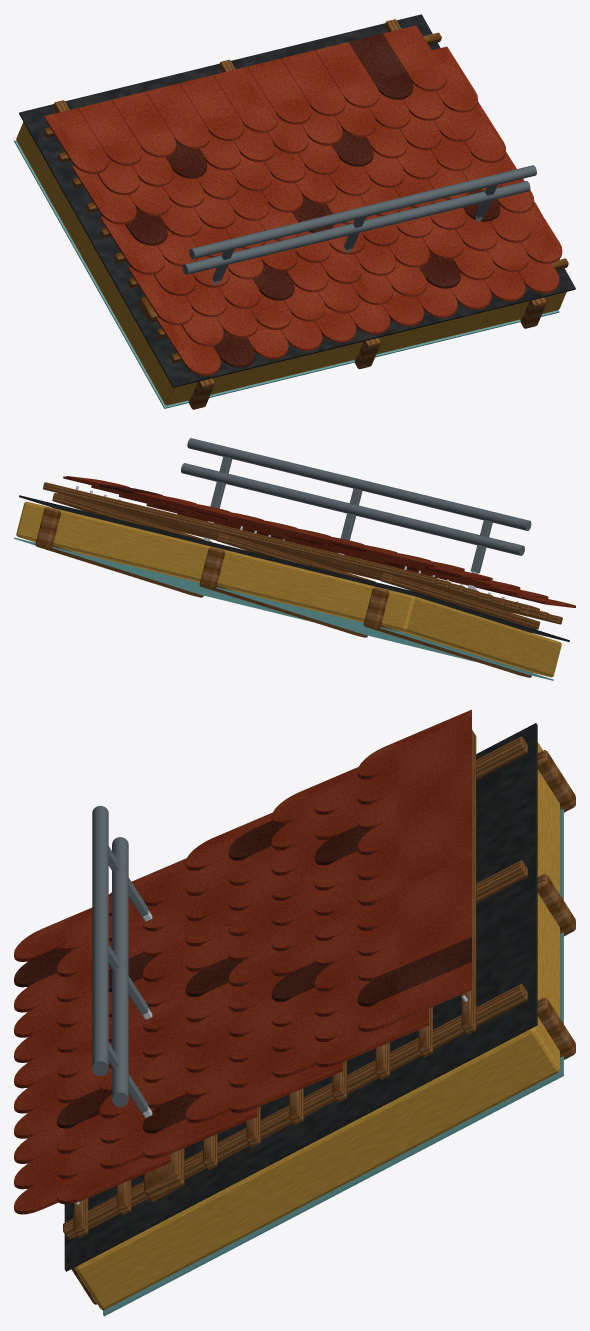
The model's file is modell.glb.
3 views of the same model, one above another, from view 1: azimuth 30°, elevation 25°; view 2: azimuth 150°, elevation 25°; view 3: azimuth 270°, elevation 25° (orthographic). The views are drawn at different scales.
Visible parts, largest first — view 1: a02-deckziegel_deckung, a02-zusatzebene_zusatzebene, a02-daemmung_daemmung, a02-deckziegel_deckung.001, a02-fangsystem_, a02-luftdichtheit_luftdichtheit, a02-lattung_lattung, a02-sparren_tragwerk, a02-halter_; view 2: a02-daemmung_daemmung, a02-lattung_lattung, a02-fangsystem_, a02-deckziegel_deckung, a02-sparren_tragwerk, a02-luftdichtheit_luftdichtheit, a02-zusatzebene_zusatzebene, a02-halter_, a02-befestigungsuntergrund_lattung, a02-deckziegel_deckung.001; view 3: a02-deckziegel_deckung, a02-daemmung_daemmung, a02-zusatzebene_zusatzebene, a02-lattung_lattung, a02-deckziegel_deckung.001, a02-fangsystem_, a02-luftdichtheit_luftdichtheit, a02-sparren_tragwerk, a02-halter_, a02-befestigungsuntergrund_lattung.
Part boxes in pixels (left/top/right/bottom): a02-deckziegel_deckung: left=44, top=25, right=562, bottom=375; a02-zusatzebene_zusatzebene: left=19, top=14, right=575, bottom=387; a02-daemmung_daemmung: left=16, top=122, right=566, bottom=405; a02-deckziegel_deckung.001: left=125, top=34, right=500, bottom=367; a02-fangsystem_: left=182, top=165, right=536, bottom=274; a02-luftdichtheit_luftdichtheit: left=14, top=140, right=559, bottom=408; a02-lattung_lattung: left=43, top=19, right=568, bottom=363; a02-sparren_tragwerk: left=188, top=297, right=546, bottom=409; a02-halter_: left=212, top=185, right=497, bottom=281; a02-daemmung_daemmung: left=16, top=501, right=561, bottom=677; a02-lattung_lattung: left=43, top=482, right=562, bottom=629; a02-fangsystem_: left=181, top=438, right=531, bottom=555; a02-deckziegel_deckung: left=63, top=476, right=575, bottom=607; a02-sparren_tragwerk: left=35, top=507, right=531, bottom=677; a02-luftdichtheit_luftdichtheit: left=14, top=537, right=553, bottom=680; a02-zusatzebene_zusatzebene: left=19, top=495, right=569, bottom=641; a02-halter_: left=210, top=456, right=492, bottom=573; a02-befestigungsuntergrund_lattung: left=142, top=519, right=539, bottom=618; a02-deckziegel_deckung.001: left=99, top=484, right=512, bottom=596; a02-deckziegel_deckung: left=14, top=709, right=471, bottom=1214; a02-daemmung_daemmung: left=75, top=742, right=560, bottom=1310; a02-zusatzebene_zusatzebene: left=64, top=723, right=537, bottom=1271; a02-lattung_lattung: left=63, top=730, right=527, bottom=1239; a02-deckziegel_deckung.001: left=14, top=821, right=471, bottom=1133; a02-fangsystem_: left=92, top=805, right=128, bottom=1107; a02-luftdichtheit_luftdichtheit: left=103, top=809, right=563, bottom=1316; a02-sparren_tragwerk: left=71, top=750, right=575, bottom=1304; a02-halter_: left=108, top=846, right=148, bottom=1112; a02-befestigungsuntergrund_lattung: left=144, top=1148, right=184, bottom=1201.
Bounding box in the file's own units: 2.14 × 1.07 × 1.69.
8 materials, 5 textured.
